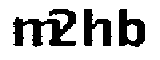2: (47, 8, 79, 53)
b: (116, 5, 145, 49)
h: (81, 3, 113, 53)
m: (12, 16, 59, 54)
